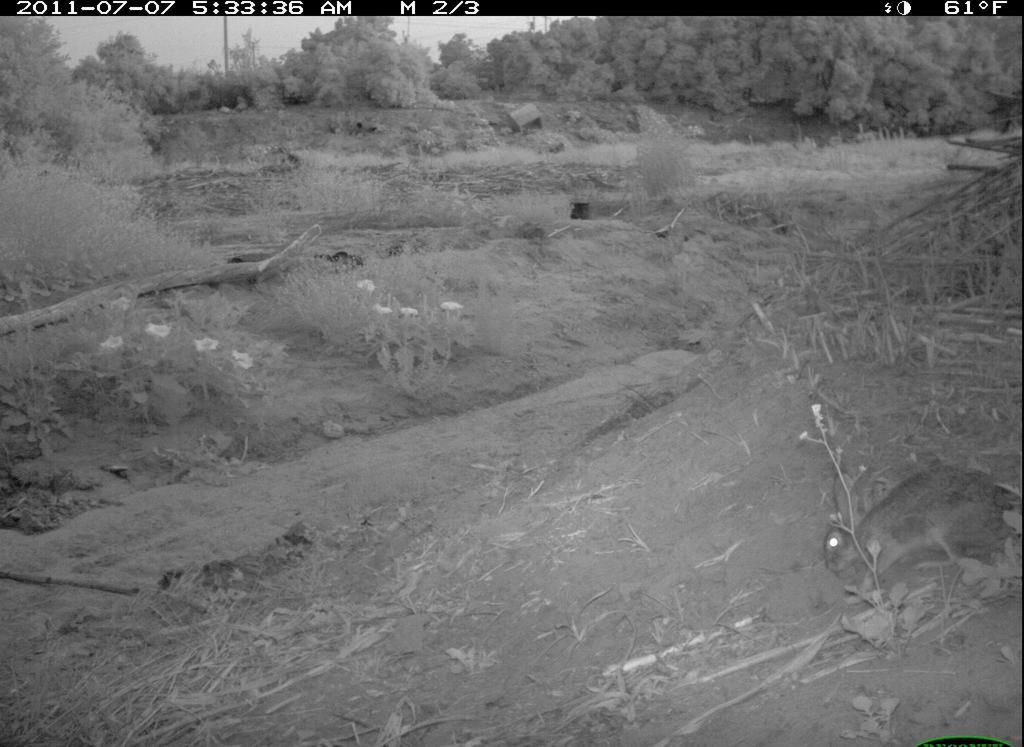rabbit: (812, 455, 1019, 615)
